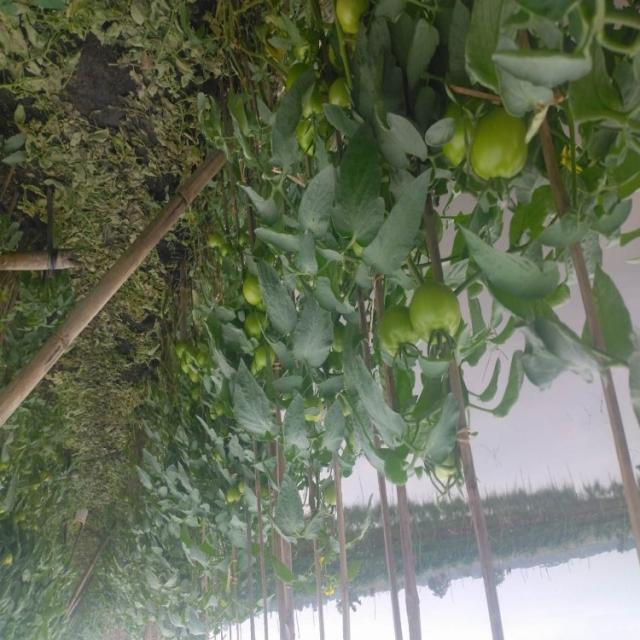tomato: (472, 108, 544, 189), (413, 273, 472, 347), (375, 302, 415, 352), (295, 109, 327, 162), (332, 1, 379, 33), (235, 271, 265, 306), (247, 300, 269, 336), (170, 350, 195, 380), (255, 345, 275, 372), (225, 487, 241, 509), (329, 70, 342, 93)
